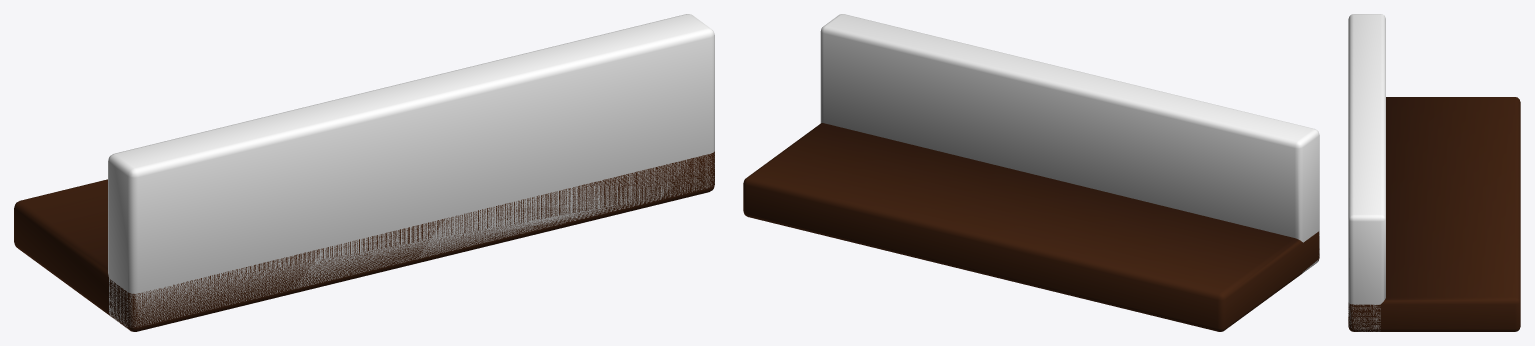
File: wooden-stair-plank.obj
3 renders of one model, left to right at view 1: azimuth 30°, elevation 25°; view 2: azimuth 150°, elevation 25°; view 3: azimuth 270°, elevation 25°, orthographic. The views are drawn at different scales.
Visible parts, largest first — view 1: wooden-stair-plank; view 2: wooden-stair-plank; view 3: wooden-stair-plank.
Part boxes in pixels (x1,y1,x2,y2): wooden-stair-plank: (14, 14, 714, 331); wooden-stair-plank: (743, 14, 1319, 331); wooden-stair-plank: (1348, 14, 1520, 331).
Size of the model in its own units: 0.9 by 0.24 by 0.32.
